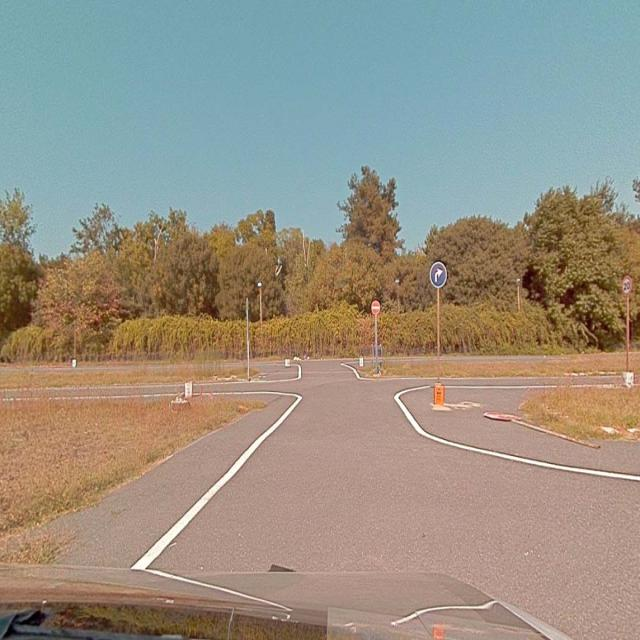20: (622, 276, 632, 294)
girisyok: (371, 301, 380, 315)
sag: (429, 261, 446, 287)
